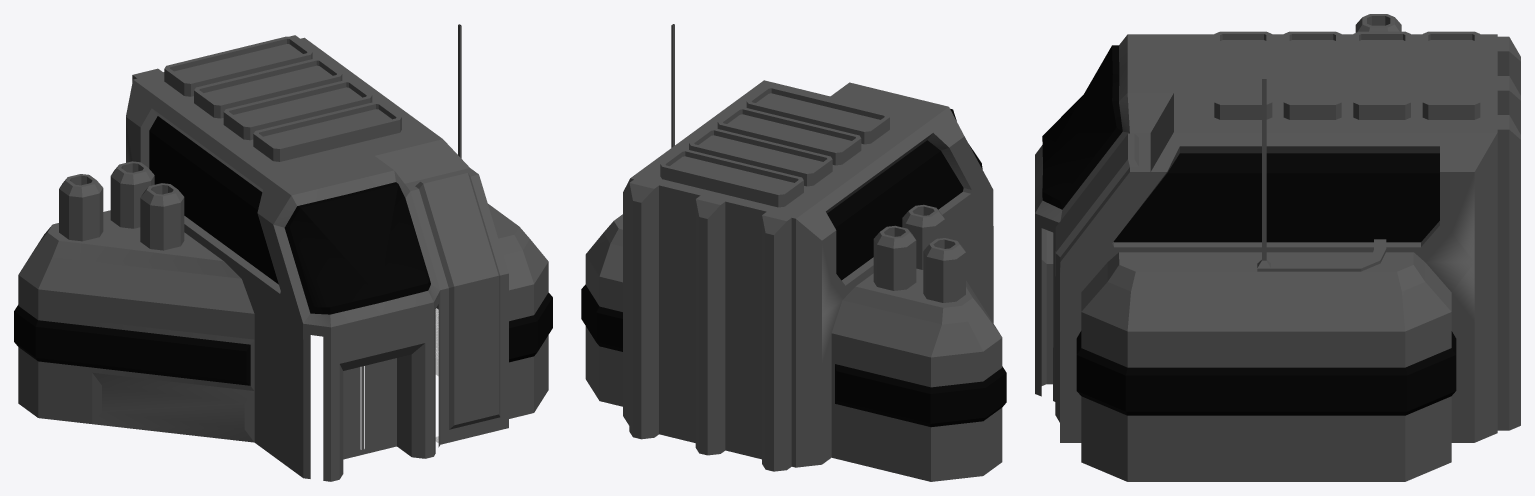
File: Apartment_lvl1_2.dae
3 renders of one model, left to right at view 1: azimuth 30°, elevation 25°; view 2: azimuth 150°, elevation 25°; view 3: azimuth 270°, elevation 25°, orthographic. The views are drawn at different scales.
Parts seen in each view (by area): view 1: Apartment_lvl1_2; view 2: Apartment_lvl1_2; view 3: Apartment_lvl1_2.
Part boxes in pixels (box(x1,y1,x2,y2)): Apartment_lvl1_2: box(14, 24, 552, 481); Apartment_lvl1_2: box(581, 24, 1006, 481); Apartment_lvl1_2: box(1035, 14, 1520, 481).
Size of the model in its own units: 21.5 by 18.5 by 16.69.
